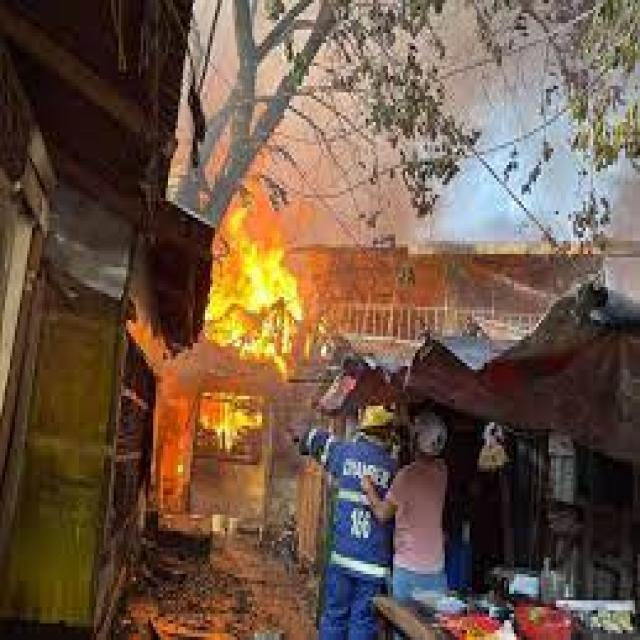Fire: (217, 248, 296, 376), (202, 394, 266, 448)
